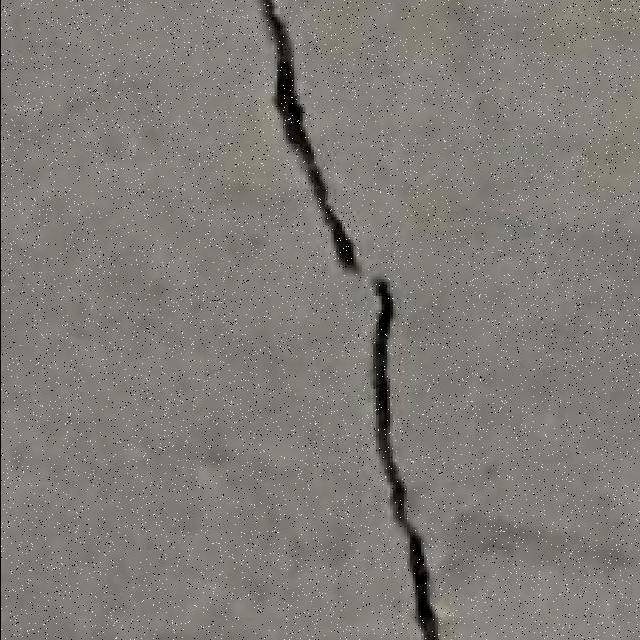crack: (346, 0, 640, 630), (260, 0, 441, 638), (258, 4, 357, 275)
